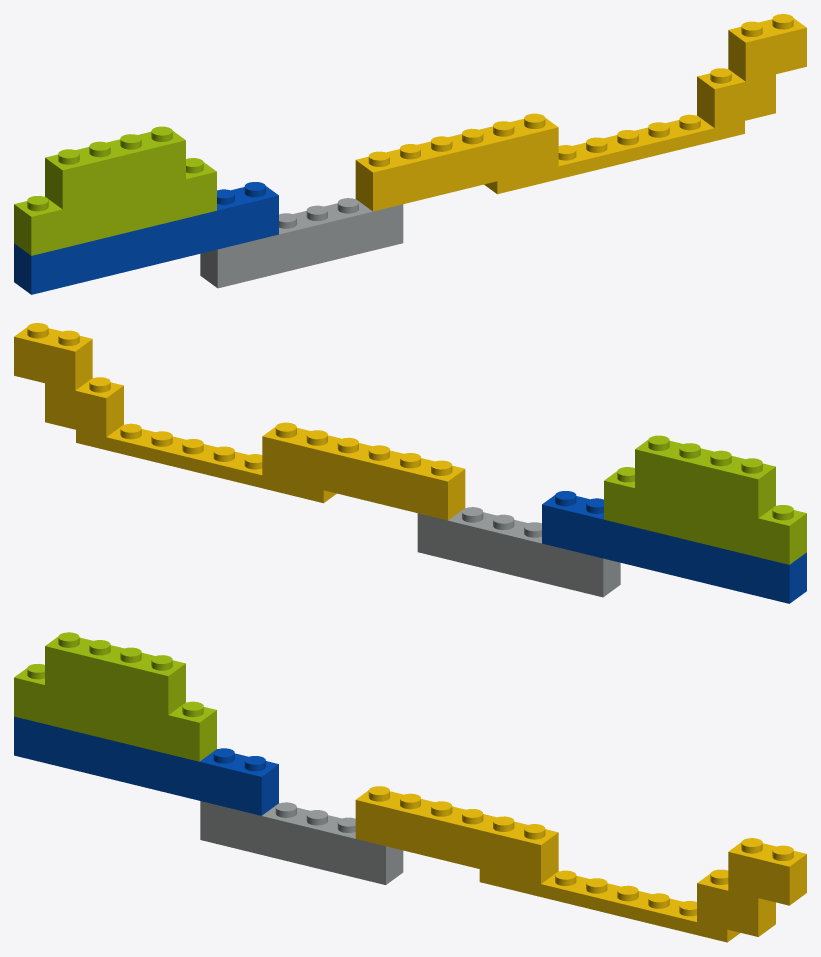
File: best.glb
3 renders of one model, top to bottom at view 1: azimuth 30°, elevation 25°; view 2: azimuth 150°, elevation 25°; view 3: azimuth 330°, elevation 25°, orthographic.
Visible parts, largest first — view 1: brick_001_brick_1x8, brick_002_brick_1x6, brick_000_brick_1x6, brick_004_brick_1x6, brick_005_brick_1x4, brick_003_plate_1x8, brick_007_brick_1x2, brick_006_brick_1x2; view 2: brick_001_brick_1x8, brick_002_brick_1x6, brick_000_brick_1x6, brick_004_brick_1x6, brick_005_brick_1x4, brick_003_plate_1x8, brick_007_brick_1x2, brick_006_brick_1x2; view 3: brick_001_brick_1x8, brick_002_brick_1x6, brick_000_brick_1x6, brick_004_brick_1x6, brick_005_brick_1x4, brick_003_plate_1x8, brick_007_brick_1x2, brick_006_brick_1x2.
Boxes of the visible parts, box(x1,y1,x2,y2) form: brick_001_brick_1x8: box(14, 182, 278, 294); brick_002_brick_1x6: box(355, 113, 558, 211); brick_000_brick_1x6: box(200, 198, 403, 288); brick_004_brick_1x6: box(14, 158, 216, 255); brick_005_brick_1x4: box(45, 126, 185, 209); brick_003_plate_1x8: box(484, 114, 744, 194); brick_007_brick_1x2: box(728, 14, 806, 81); brick_006_brick_1x2: box(697, 68, 775, 128); brick_001_brick_1x8: box(542, 491, 806, 603); brick_002_brick_1x6: box(262, 422, 465, 520); brick_000_brick_1x6: box(417, 507, 620, 597); brick_004_brick_1x6: box(604, 467, 806, 564); brick_005_brick_1x4: box(635, 435, 775, 518); brick_003_plate_1x8: box(76, 423, 336, 503); brick_007_brick_1x2: box(14, 323, 92, 390); brick_006_brick_1x2: box(45, 377, 123, 437); brick_001_brick_1x8: box(14, 716, 278, 815); brick_002_brick_1x6: box(355, 786, 558, 883); brick_000_brick_1x6: box(200, 801, 403, 884); brick_004_brick_1x6: box(14, 664, 216, 761); brick_005_brick_1x4: box(45, 632, 185, 714); brick_003_plate_1x8: box(479, 869, 740, 942); brick_007_brick_1x2: box(728, 838, 806, 905); brick_006_brick_1x2: box(697, 869, 775, 936).
Bounding box in the file's own units: 0.1998 × 0.04 × 0.0078.
